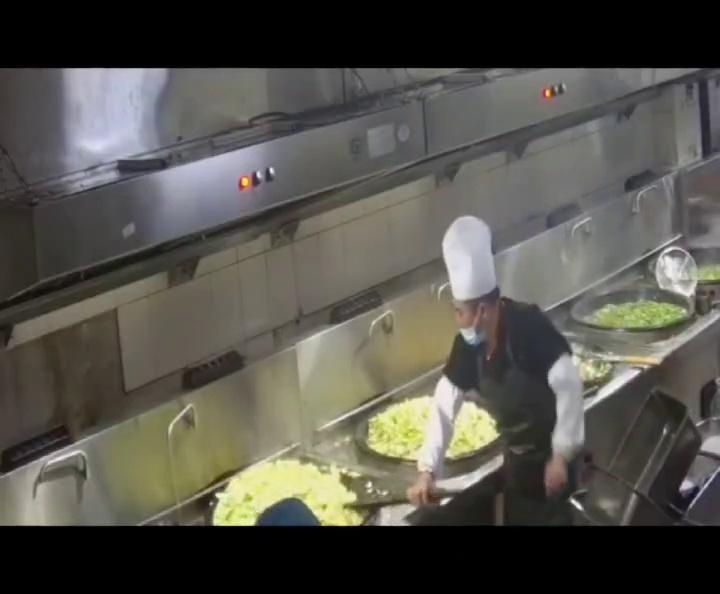mask: (455, 306, 489, 348)
